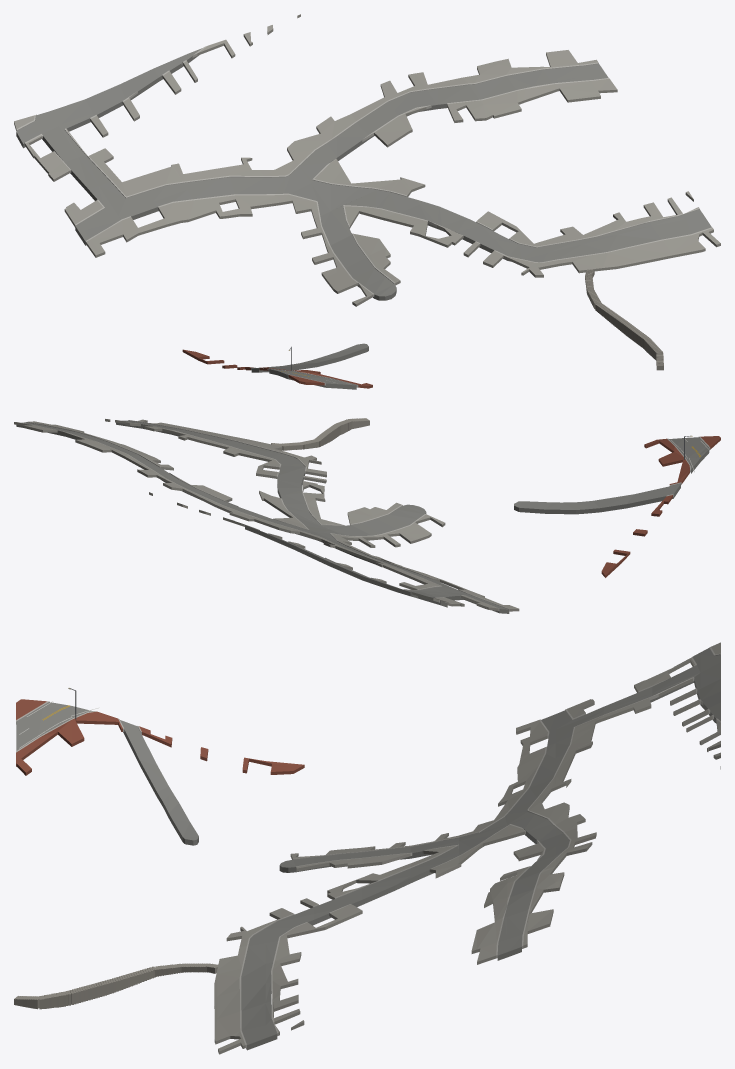
The picture shows the model from 3 angles, top to bottom: view 1: azimuth 30°, elevation 25°; view 2: azimuth 150°, elevation 25°; view 3: azimuth 270°, elevation 25°; orthographic projection. The views are drawn at different scales.
Bounding box in the file's own units: 148 × 44.51 × 146.
